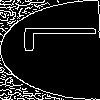L: (25, 25, 100, 53)
